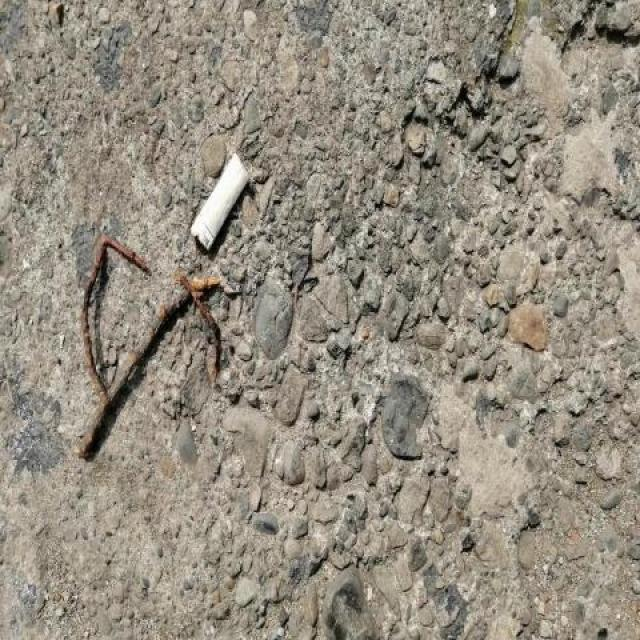non-organic waste: (185, 146, 255, 259)
